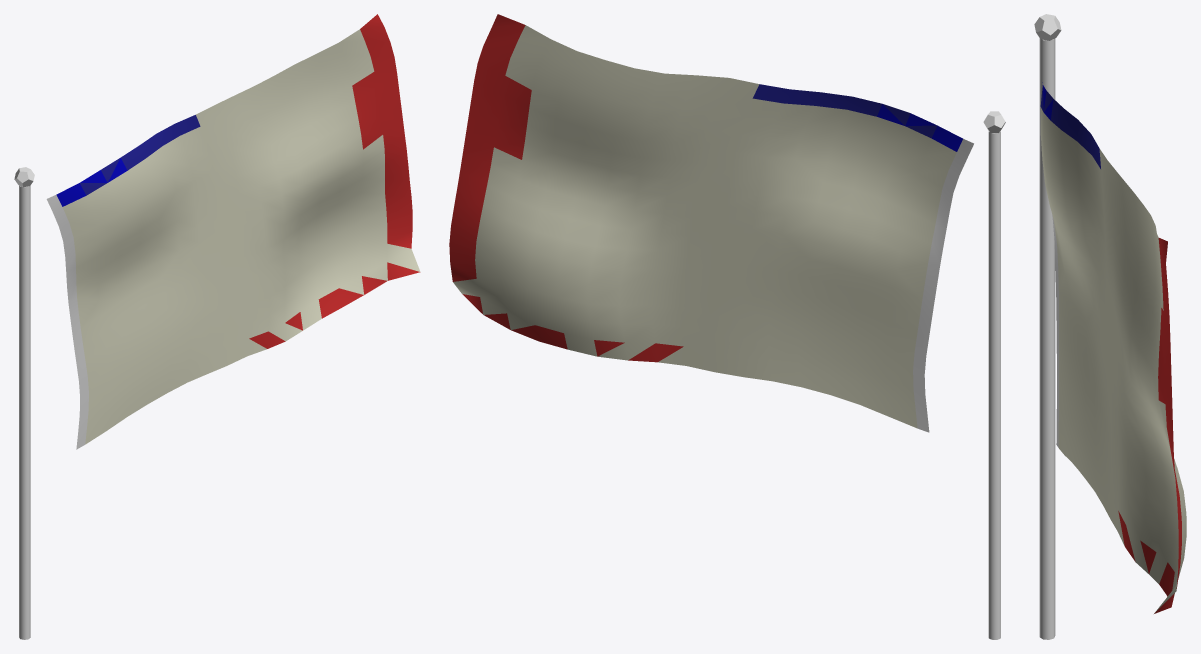
3 renders of one model, left to right at view 1: azimuth 30°, elevation 25°; view 2: azimuth 150°, elevation 25°; view 3: azimuth 270°, elevation 25°, orthographic. The views are drawn at different scales.
Parts seen in each view (by area): view 1: 组件#4_001, 组件#3_001; view 2: 组件#4_001, 组件#3_001; view 3: 组件#4_001, 组件#3_001, pentagonal dodecahedron_001.
Part boxes in pixels (x1,y1,x2,y2): 组件#4_001: (46,14,420,449); 组件#3_001: (19,185,30,639); 组件#4_001: (449,14,973,432); 组件#3_001: (988,131,1000,639); 组件#4_001: (1040,82,1186,613); 组件#3_001: (1039,38,1055,639); pentagonal dodecahedron_001: (1034,14,1061,40).
Bounding box in the file's own units: 50949 × 53766 × 11370.
